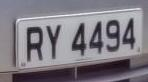4: (69, 18, 89, 60), (87, 18, 106, 59), (121, 14, 139, 55)
9: (105, 16, 122, 57)
R: (22, 20, 46, 65)
Y: (43, 19, 64, 63)
